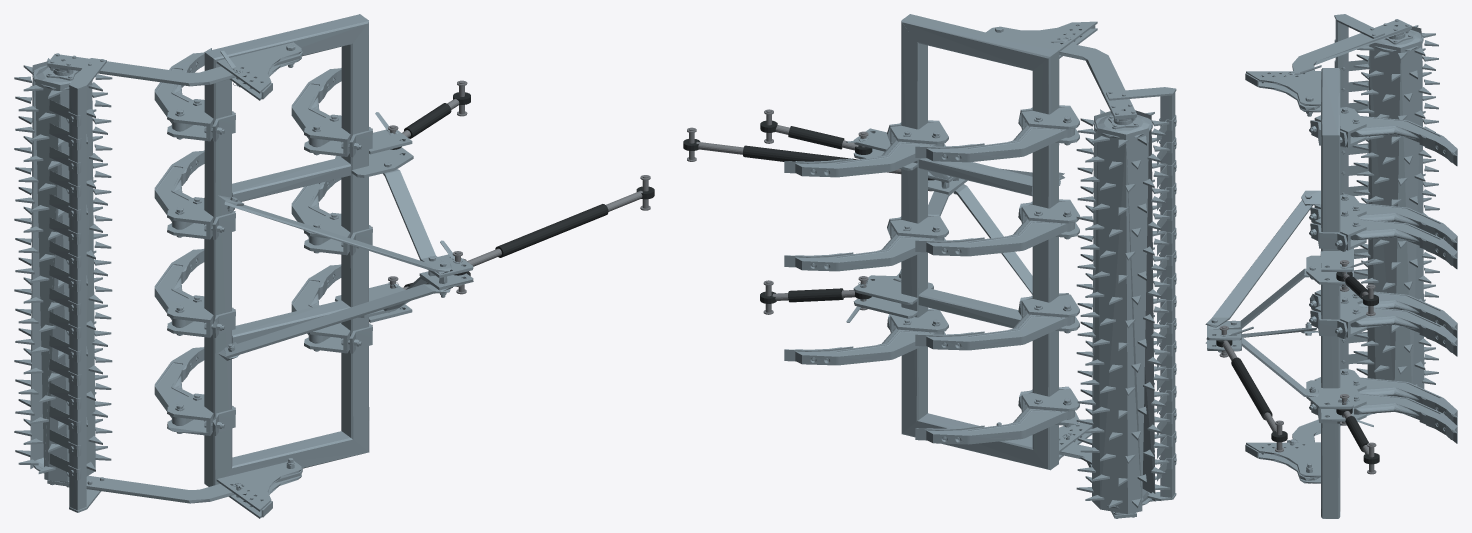
File: implement_compact_chisel_plow_visual.obj
The picture shows the model from 3 angles, left to right: view 1: azimuth 30°, elevation 25°; view 2: azimuth 150°, elevation 25°; view 3: azimuth 270°, elevation 25°; orthographic projection. The views are drawn at different scales.
Visible parts, largest first — view 1: solid_218, solid_17, solid_11, solid_215, solid_10, solid_9, solid_27, solid_214, solid_18, solid_213, solid_22, solid_20 (+17 smaller); view 2: solid_218, solid_11, solid_17, solid_10, solid_215, solid_47, solid_97, solid_147, solid_197, solid_72, solid_122, solid_172 (+20 smaller); view 3: solid_218, solid_17, solid_4, solid_214, solid_215, solid_47, solid_72, solid_172, solid_20, solid_122, solid_22, solid_10 (+30 smaller).
Boxes of the visible parts, bbox=[...] form: solid_218: bbox=[30, 61, 95, 481]; solid_17: bbox=[341, 14, 369, 452]; solid_11: bbox=[204, 52, 232, 486]; solid_215: bbox=[69, 87, 86, 510]; solid_10: bbox=[205, 14, 368, 60]; solid_9: bbox=[205, 431, 368, 484]; solid_27: bbox=[224, 284, 450, 358]; solid_214: bbox=[47, 51, 302, 86]; solid_18: bbox=[232, 157, 351, 201]; solid_213: bbox=[47, 469, 302, 503]; solid_22: bbox=[216, 460, 301, 511]; solid_20: bbox=[216, 42, 301, 93]; solid_218: bbox=[1092, 110, 1155, 513]; solid_11: bbox=[1032, 50, 1059, 469]; solid_17: bbox=[901, 14, 927, 433]; solid_10: bbox=[901, 14, 1058, 70]; solid_215: bbox=[1160, 92, 1175, 497]; solid_47: bbox=[926, 124, 1074, 162]; solid_97: bbox=[926, 218, 1074, 256]; solid_147: bbox=[926, 312, 1074, 350]; solid_197: bbox=[926, 406, 1074, 444]; solid_72: bbox=[795, 139, 943, 177]; solid_122: bbox=[795, 233, 943, 271]; solid_172: bbox=[795, 327, 943, 365]; solid_218: bbox=[1367, 26, 1424, 396]; solid_17: bbox=[1321, 135, 1340, 518]; solid_4: bbox=[1205, 200, 1312, 327]; solid_214: bbox=[1292, 20, 1411, 110]; solid_215: bbox=[1335, 20, 1348, 369]; solid_47: bbox=[1350, 116, 1457, 155]; solid_72: bbox=[1350, 219, 1457, 258]; solid_172: bbox=[1354, 393, 1457, 432]; solid_20: bbox=[1246, 71, 1320, 105]; solid_122: bbox=[1350, 306, 1457, 345]; solid_22: bbox=[1246, 442, 1320, 477]; solid_10: bbox=[1321, 68, 1340, 136].
Bounding box in the file's own units: 3.02 × 2.26 × 1.31.
